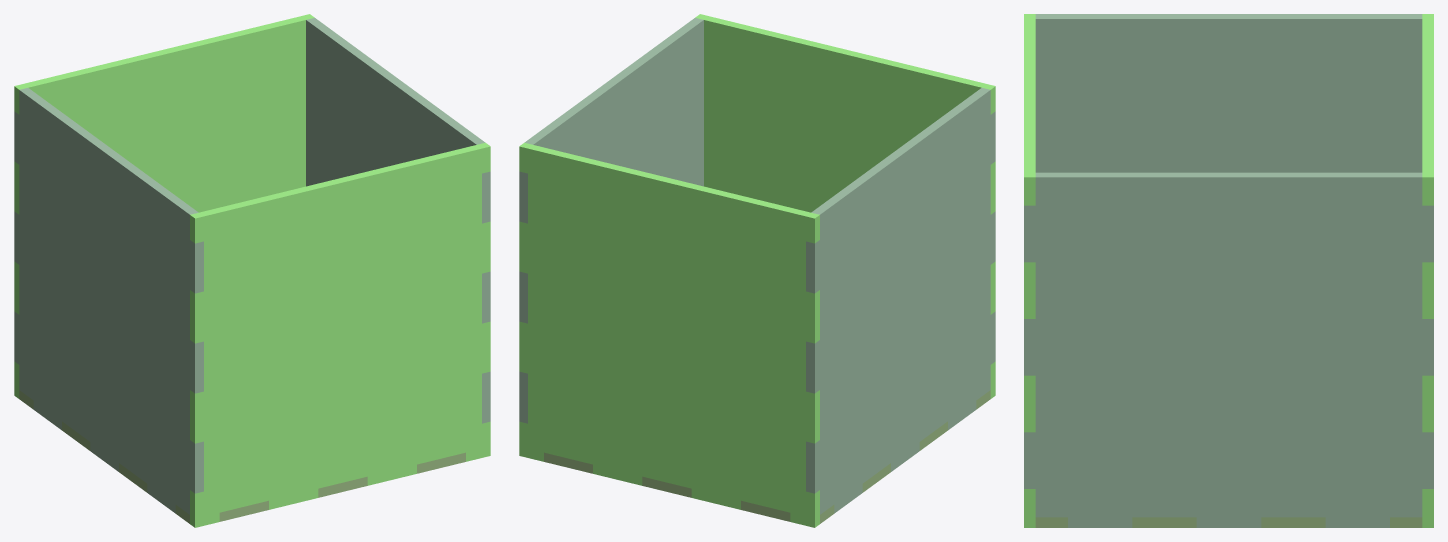
3 views of the same model, side by side, from view 1: azimuth 30°, elevation 25°; view 2: azimuth 150°, elevation 25°; view 3: azimuth 270°, elevation 25° (orthographic). The views are drawn at different scales.
Parts seen in each view (by area): view 1: out-left, out-back, out-right, out-front, out-bottom; view 2: out-right, out-back, out-left, out-front, out-bottom; view 3: out-front, out-back, out-left, out-right, out-bottom.
Part boxes in pixels (bbox=[...]): out-left: bbox=[190, 142, 490, 527]; out-back: bbox=[14, 88, 203, 514]; out-right: bbox=[14, 14, 314, 398]; out-front: bbox=[306, 18, 490, 423]; out-bottom: bbox=[19, 390, 465, 523]; out-right: bbox=[519, 142, 819, 527]; out-back: bbox=[806, 88, 995, 514]; out-left: bbox=[695, 14, 995, 398]; out-front: bbox=[519, 18, 703, 423]; out-bottom: bbox=[544, 390, 990, 523]; out-front: bbox=[1024, 172, 1433, 527]; out-back: bbox=[1035, 14, 1422, 172]; out-left: bbox=[1024, 14, 1035, 527]; out-right: bbox=[1422, 14, 1433, 527]; out-bottom: bbox=[1035, 517, 1422, 527].
Size of the model in its own units: 0.1 by 0.1 by 0.106.
